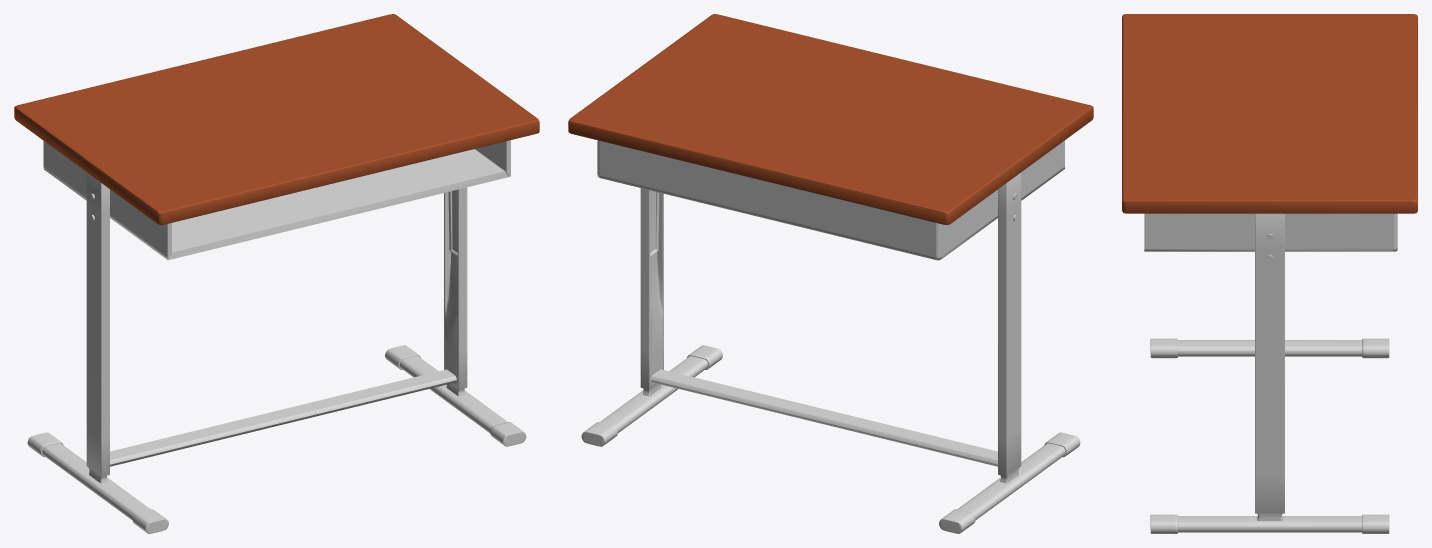
The model's file is Edesk.fbx.
3 renders of one model, left to right at view 1: azimuth 30°, elevation 25°; view 2: azimuth 150°, elevation 25°; view 3: azimuth 270°, elevation 25°, orthographic.
Parts seen in each view (by area): view 1: Box001, Box020, Box002; view 2: Box001, Box020, Box002; view 3: Box001, Box020, Box002.
Part boxes in pixels (x1=…): Box001: x1=14, y1=14, x2=539, y2=225; Box020: x1=27, y1=172, x2=526, y2=533; Box002: x1=43, y1=140, x2=510, y2=259; Box001: x1=568, y1=14, x2=1093, y2=225; Box020: x1=581, y1=172, x2=1080, y2=533; Box002: x1=597, y1=140, x2=1064, y2=260; Box001: x1=1122, y1=14, x2=1417, y2=213; Box020: x1=1150, y1=213, x2=1389, y2=533; Box002: x1=1144, y1=213, x2=1397, y2=251.
Size of the model in its own units: 60.45 by 50.36 by 40.3.
